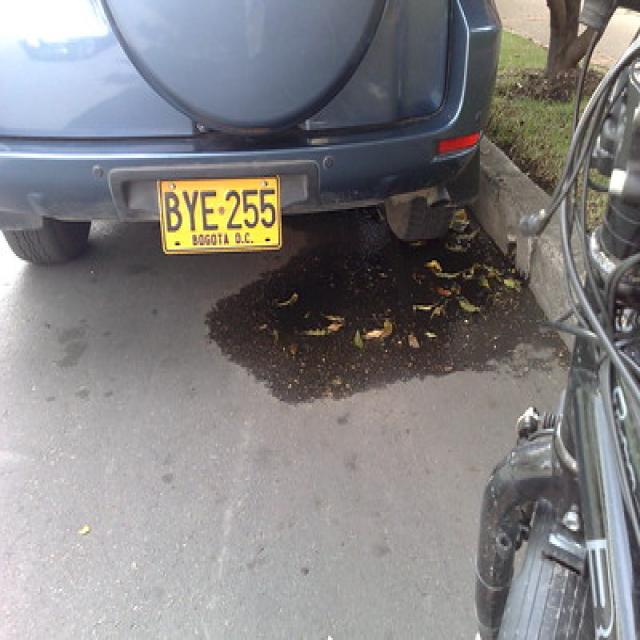placa_carro: (151, 170, 289, 261)
